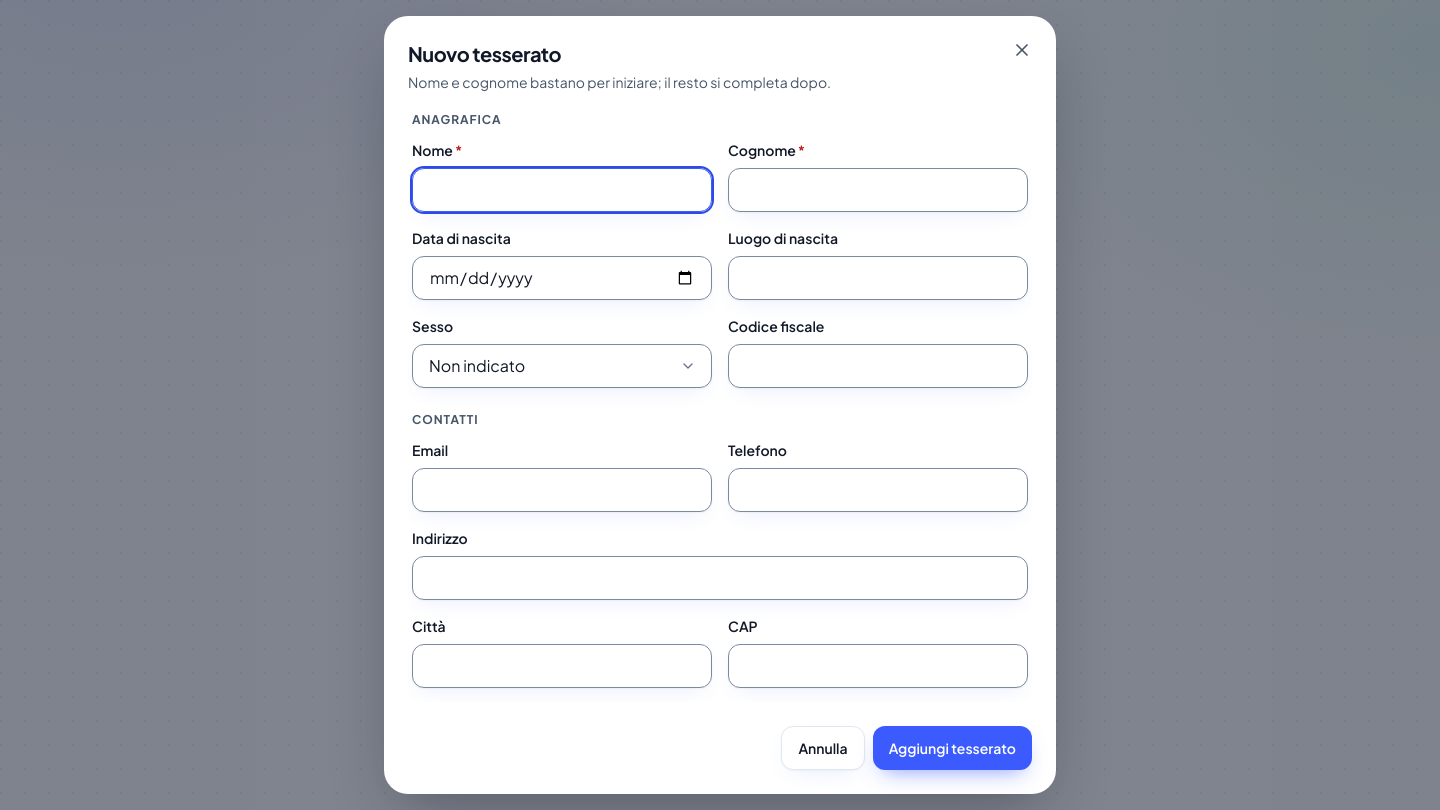
Test: MemberFormDialog (create) › shows the duplicate fiscal code on its field
The image size is (1440, 810).
Type "Sara" into the field labelled "Nome*" at (562, 190), box 412,168 -> 712,212
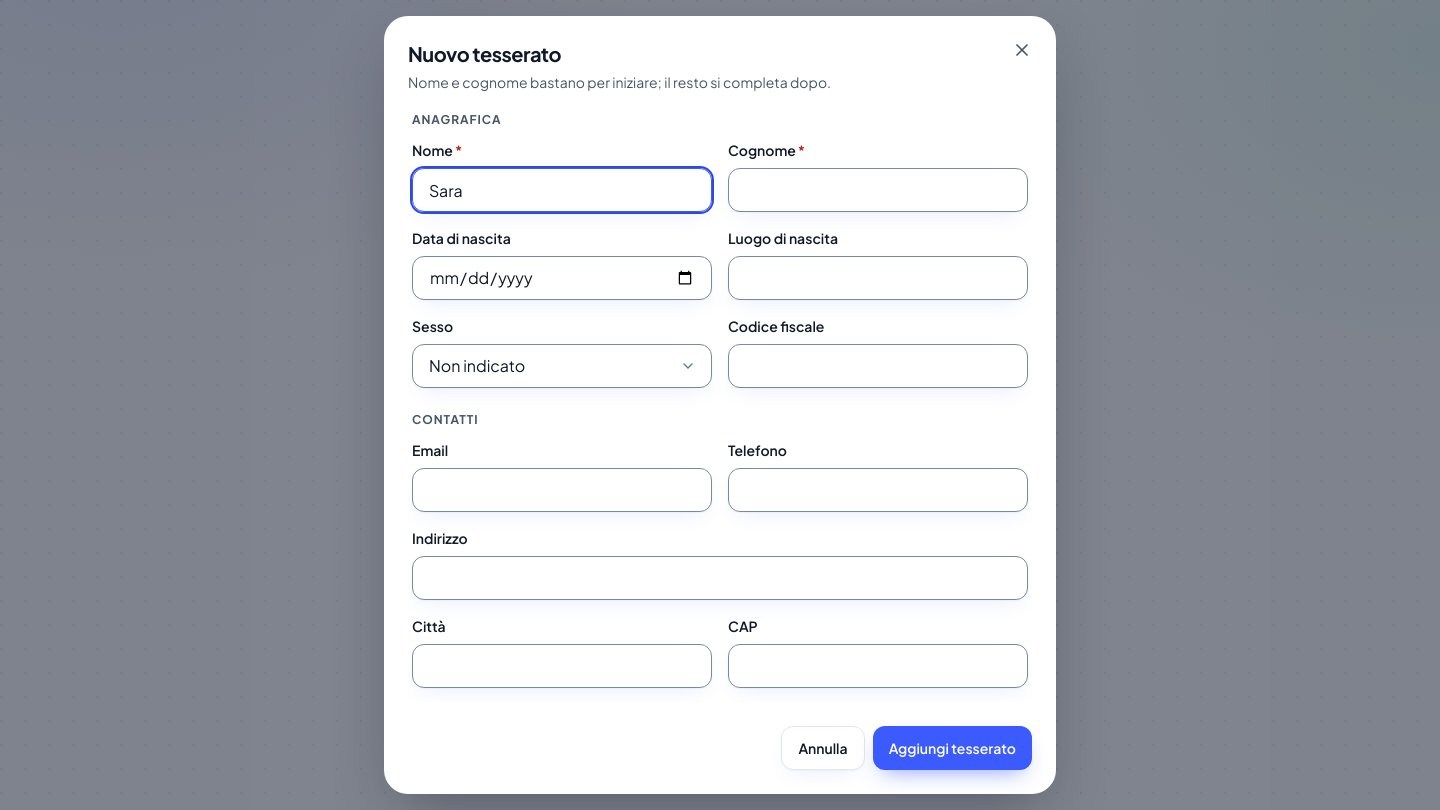
Type "Conti" into the field labelled "Cognome*" at (878, 190), box 728,168 -> 1028,212
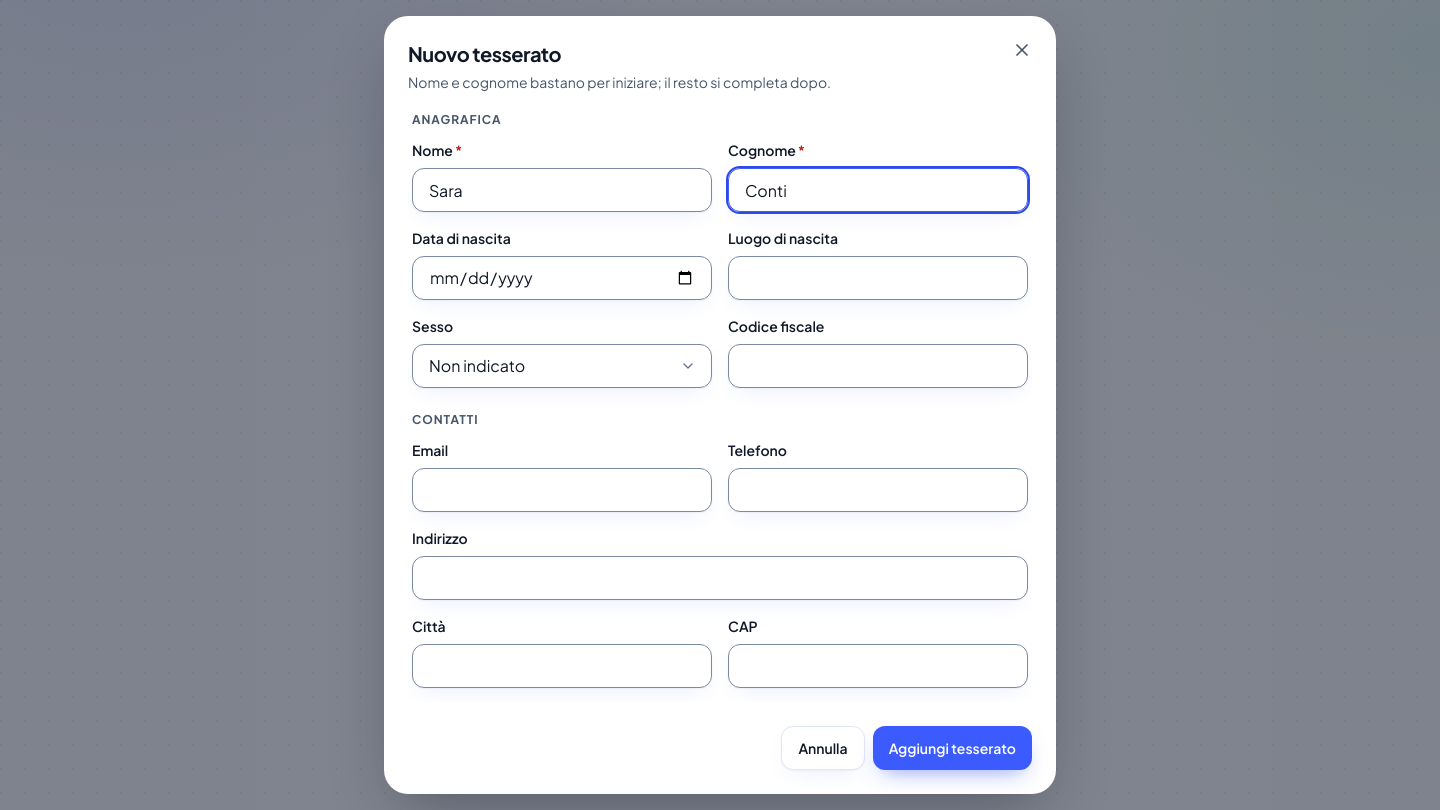
Type "CNTSRA09H41F205X" into the field labelled "Codice fiscale" at (878, 366), box 728,344 -> 1028,388
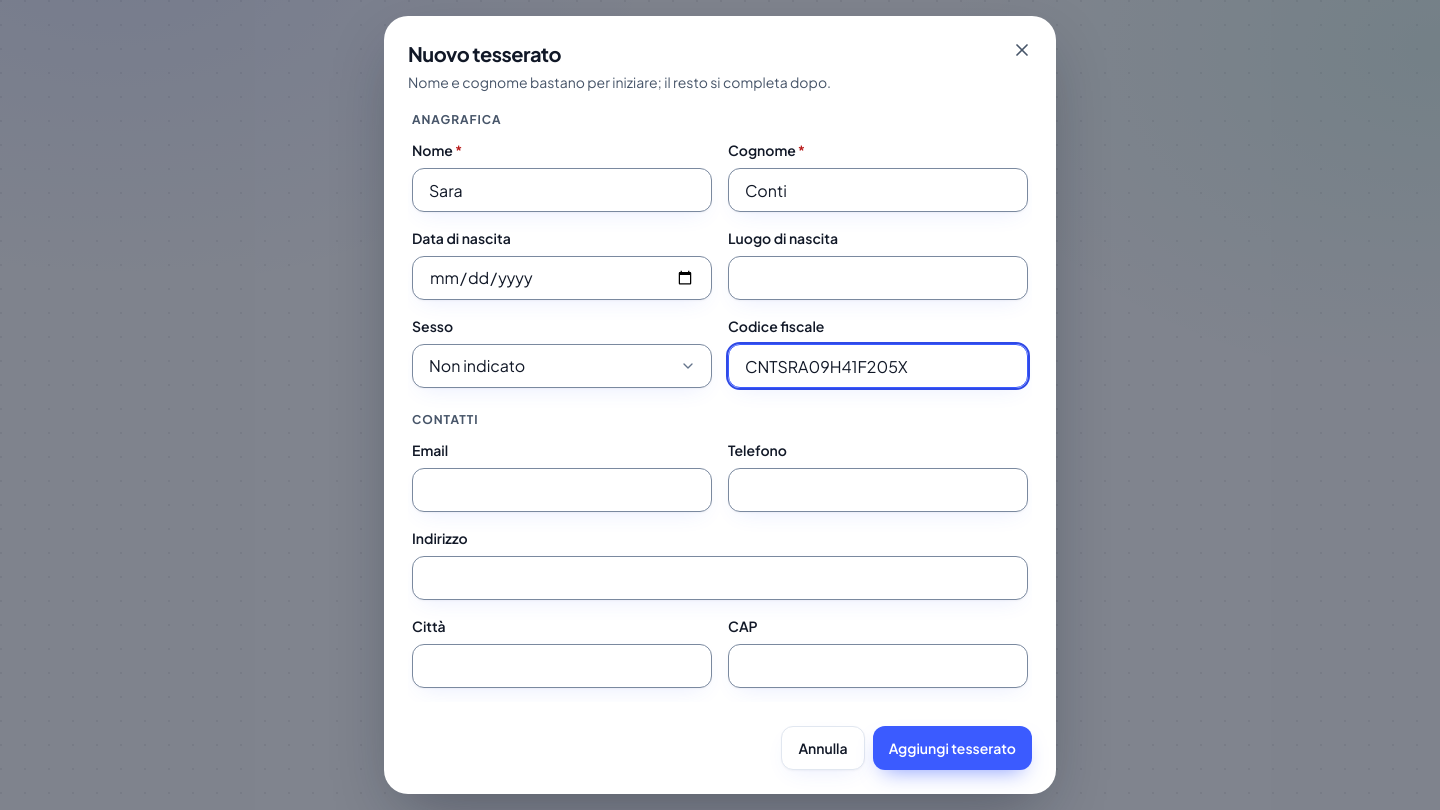
Click the button "Aggiungi tesserato" at (952, 748), box 873,726 -> 1032,770
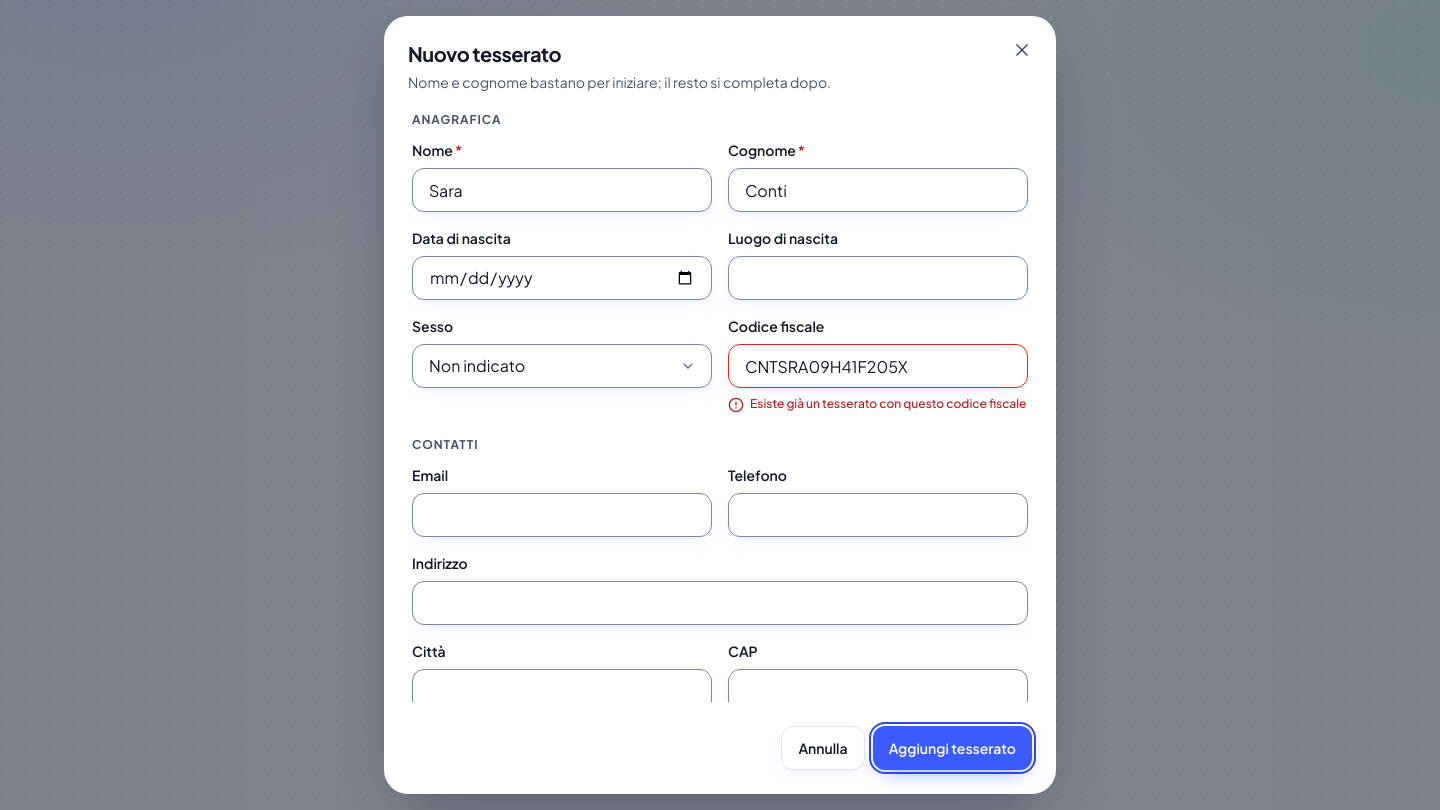
expect the text "Esiste già un tesserato con questo codice fiscale" is shown: met, box 750,396 -> 1026,412
